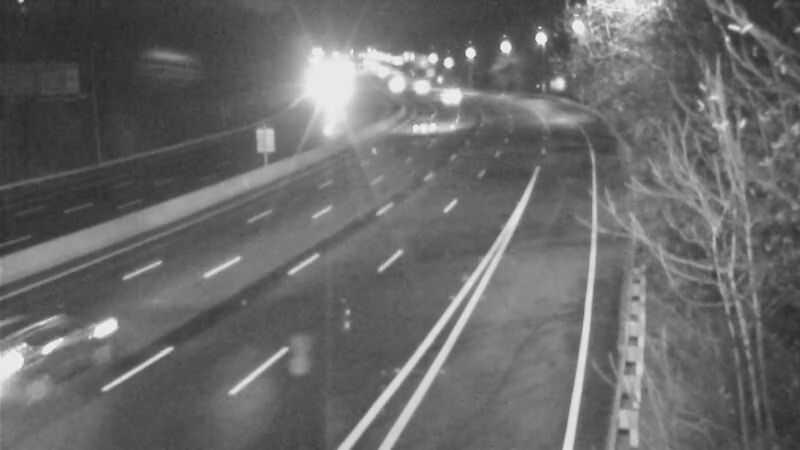vehicle: (6, 292, 116, 402), (391, 61, 441, 111), (426, 71, 476, 121), (399, 100, 449, 150), (299, 72, 349, 122)
